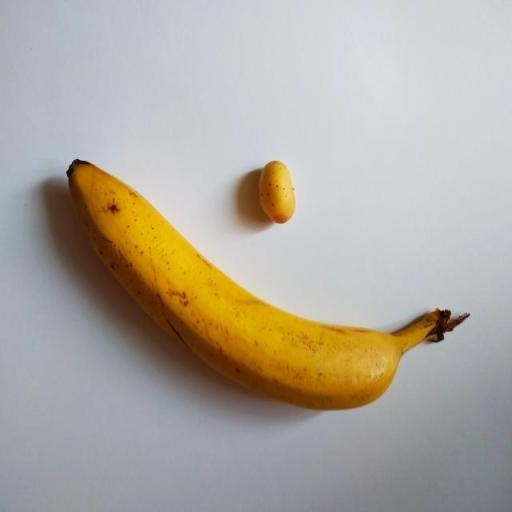fruit: (126, 95, 391, 309), (24, 69, 116, 315)
